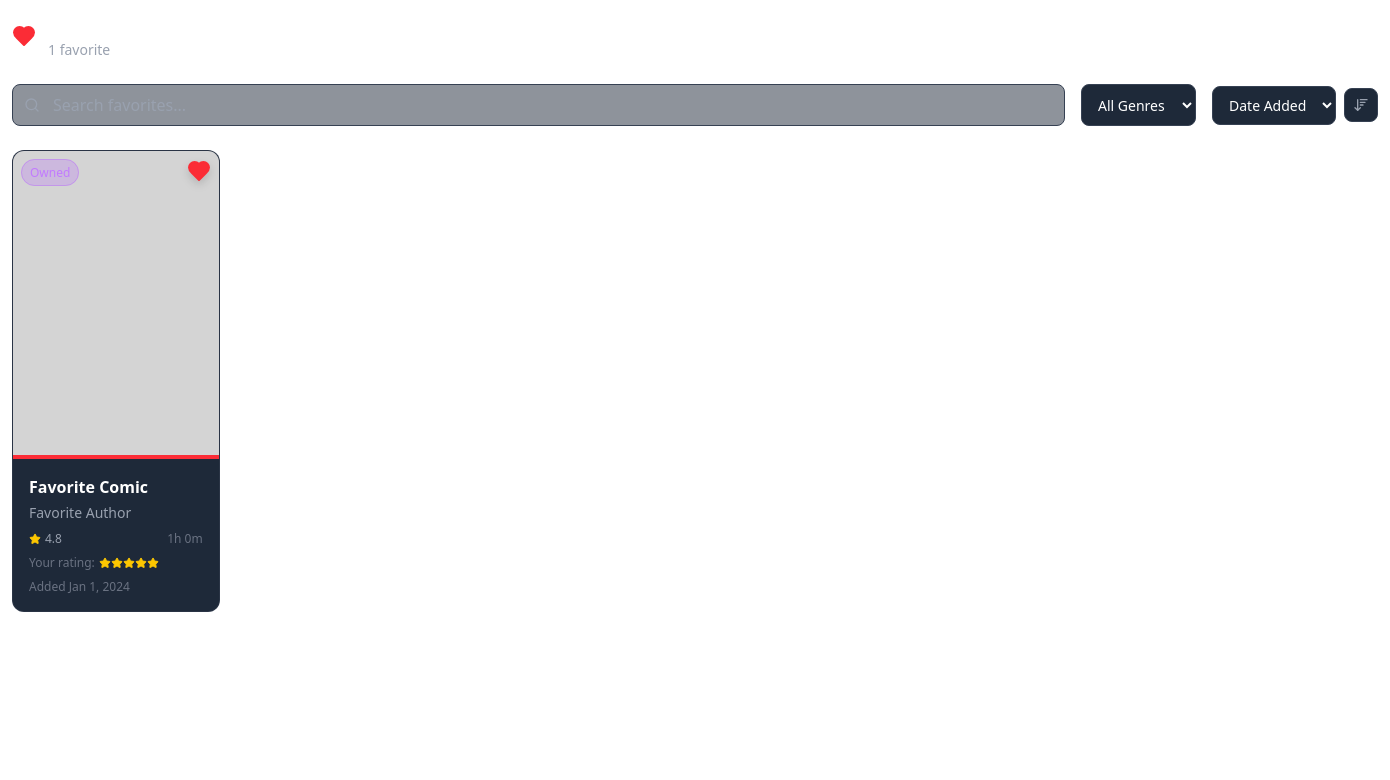
Test case: FavoritesList › toggles sort order
This screenshot has width=1390, height=780.
Step 1. Click the button titled "Sort ascending" → (1361, 105), box [1344,88,1378,122]
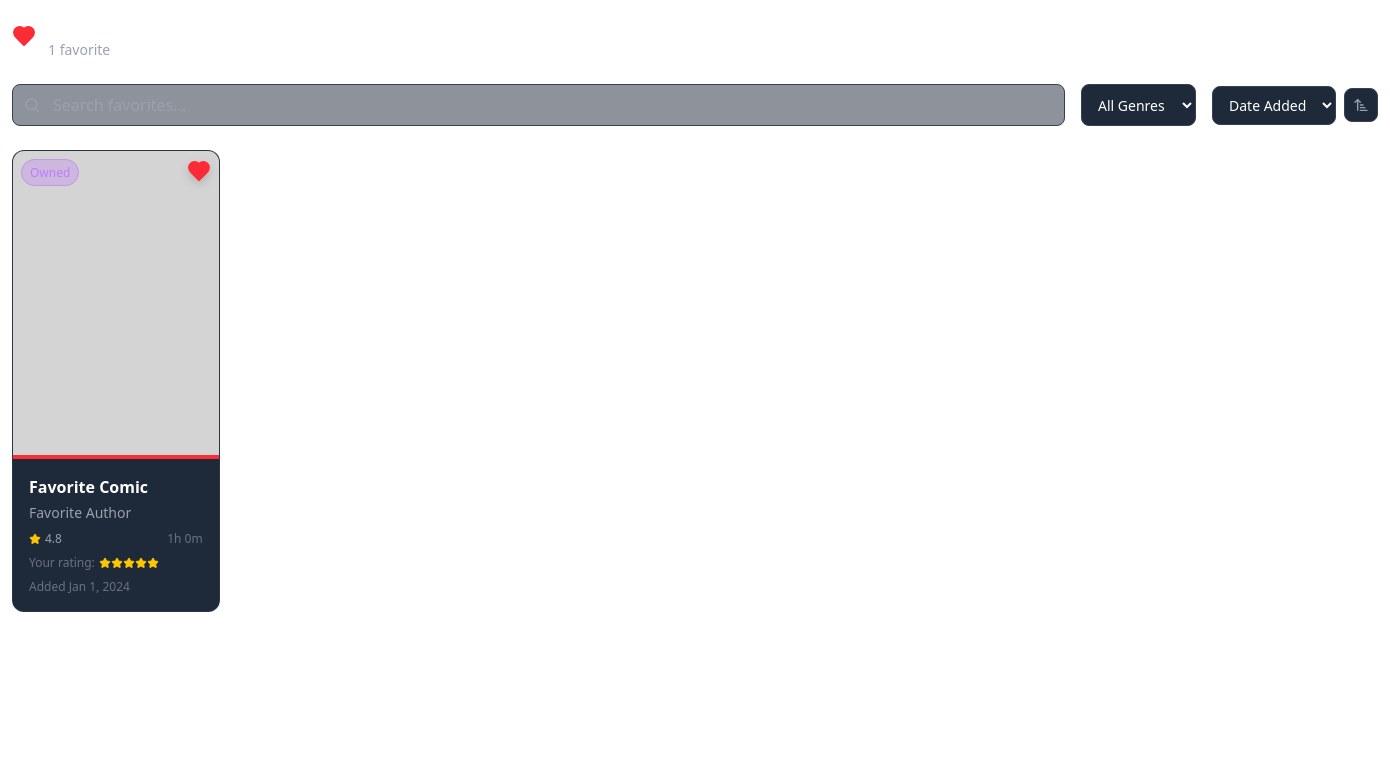
Now the button titled "Sort descending" is shown, box [1344,88,1378,122]
